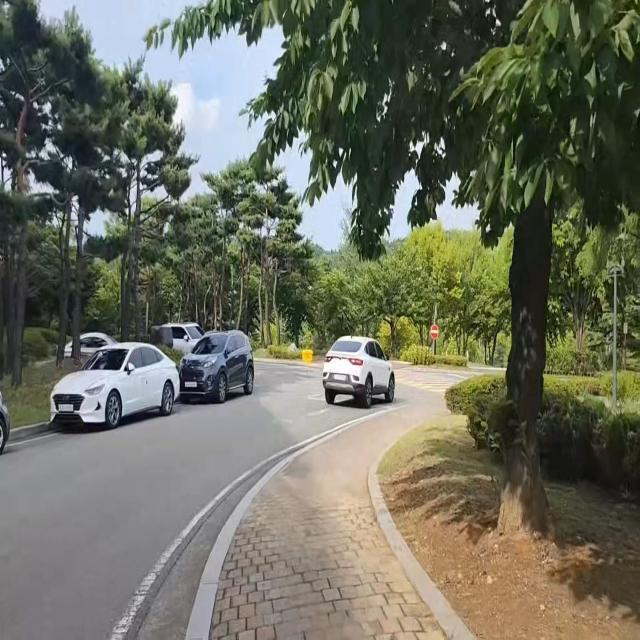obstacle: (44, 333, 185, 440), (177, 324, 257, 411), (320, 328, 399, 414), (0, 381, 16, 471)
road: (0, 365, 362, 640)
sidewalk: (183, 400, 478, 640)
